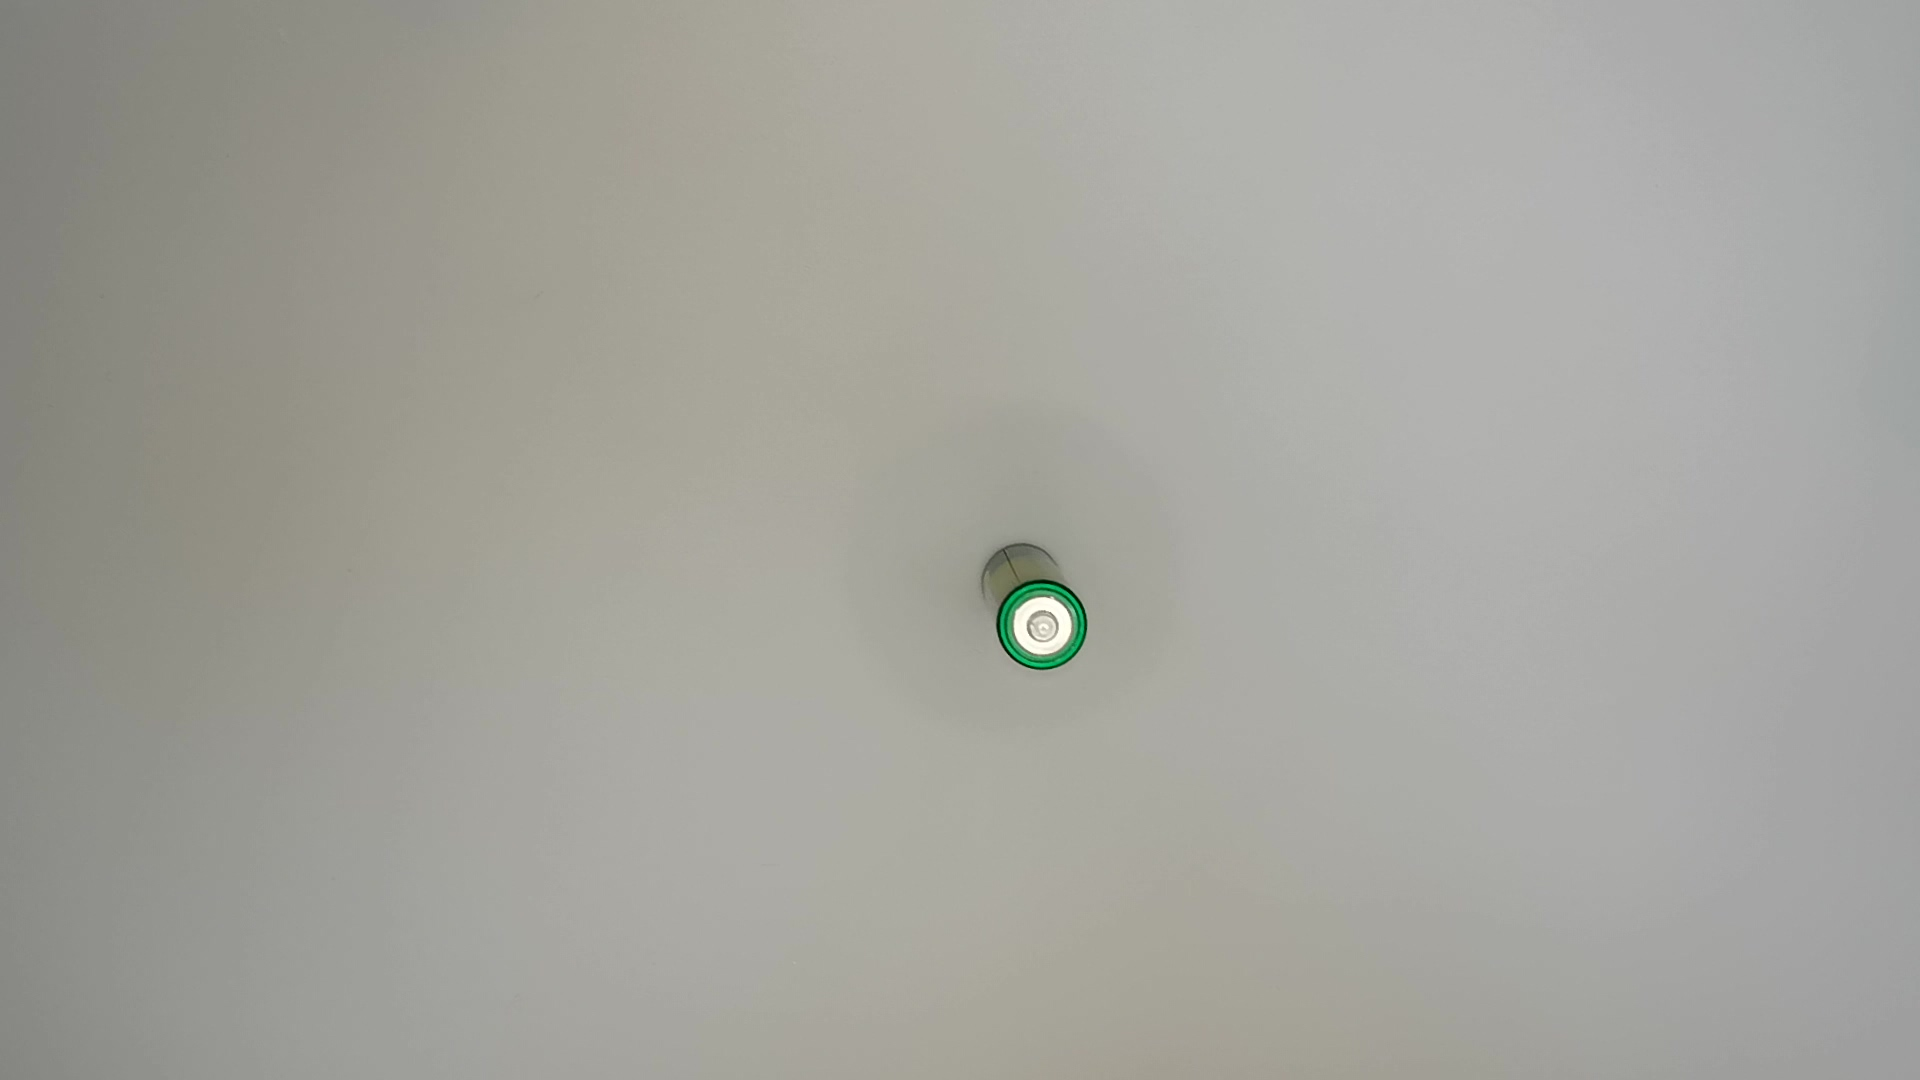battery: (977, 537, 1100, 686)
